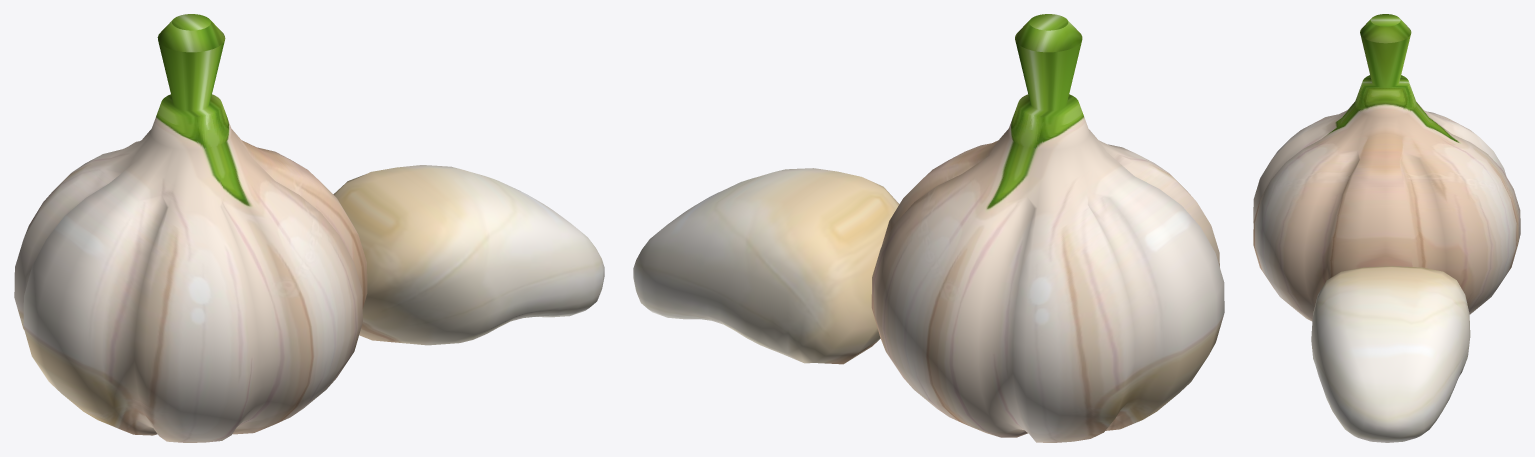
The model's file is Garlic.fbx.
The picture shows the model from 3 angles, left to right: view 1: azimuth 30°, elevation 25°; view 2: azimuth 150°, elevation 25°; view 3: azimuth 270°, elevation 25°; orthographic projection. The views are drawn at different scales.
Parts seen in each view (by area): view 1: Garlic, Garlic Slice; view 2: Garlic, Garlic Slice; view 3: Garlic, Garlic Slice.
Boxes of the visible parts, x1=… form: Garlic: x1=14, y1=14, x2=367, y2=442; Garlic Slice: x1=333, y1=165, x2=604, y2=345; Garlic: x1=871, y1=14, x2=1224, y2=442; Garlic Slice: x1=633, y1=168, x2=899, y2=364; Garlic: x1=1253, y1=14, x2=1520, y2=321; Garlic Slice: x1=1311, y1=266, x2=1470, y2=442.
Size of the model in its own units: 14.15 by 9.59 by 7.68.
